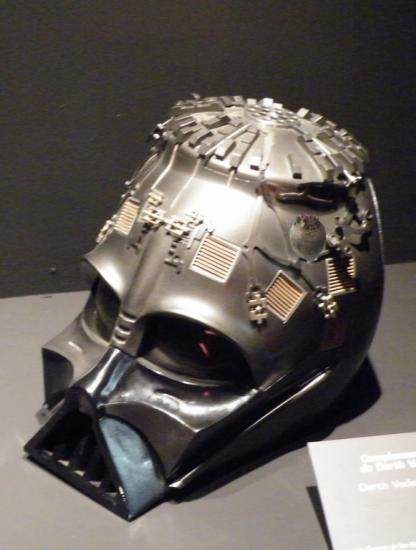Beetroot: (279, 209, 338, 268)
